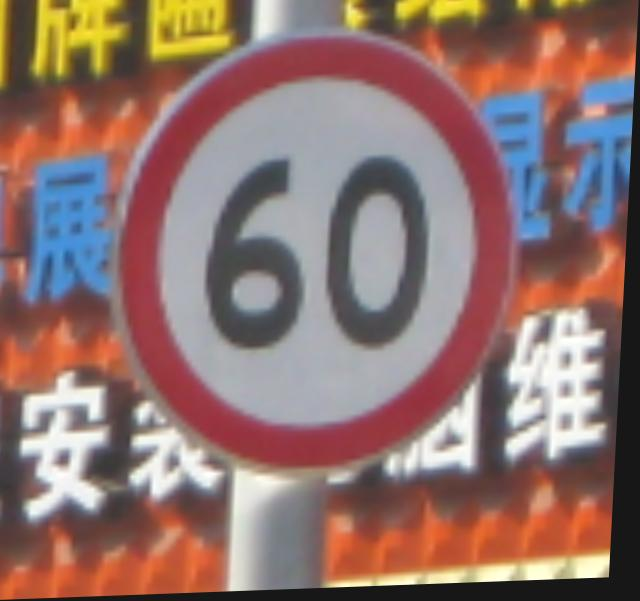limit60: (83, 8, 549, 487)
